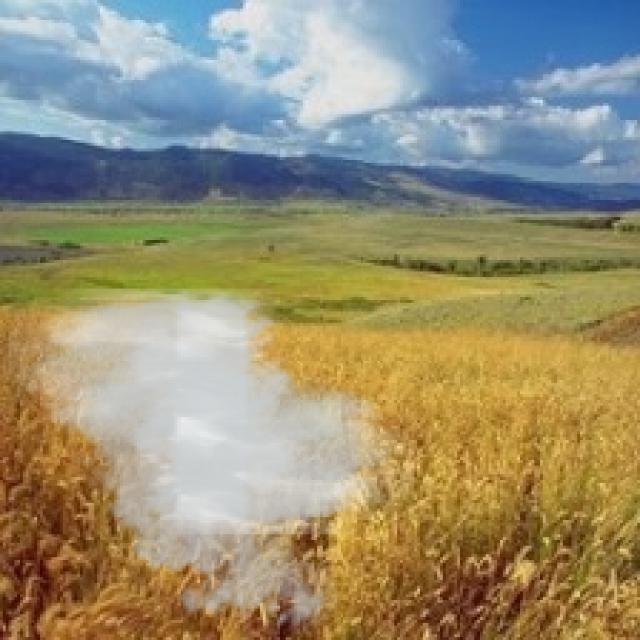Smoke: (8, 288, 414, 638)
